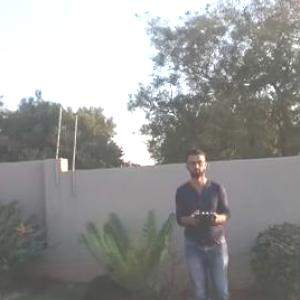follow: (170, 130, 237, 299)
